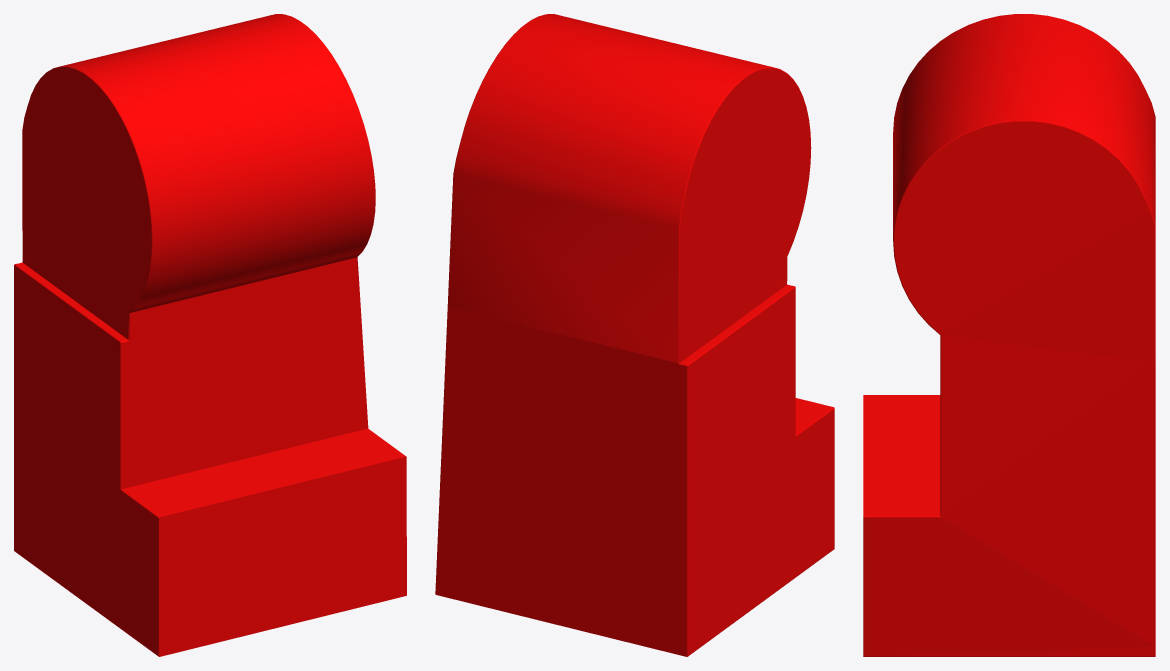
The model's file is leftLeg.obj.
The picture shows the model from 3 angles, left to right: view 1: azimuth 30°, elevation 25°; view 2: azimuth 150°, elevation 25°; view 3: azimuth 270°, elevation 25°; orthographic projection.
Visible parts, largest first — view 1: leftLeg:PieIzquierdo; view 2: leftLeg:PieIzquierdo; view 3: leftLeg:PieIzquierdo.
Boxes of the visible parts, box(x1,y1,x2,y2) form: leftLeg:PieIzquierdo: box(14, 14, 406, 656); leftLeg:PieIzquierdo: box(435, 14, 834, 656); leftLeg:PieIzquierdo: box(863, 14, 1155, 656).
Size of the model in its own units: 1.11 by 2.22 by 1.12.
Materials: 1 (1 with a texture image).
